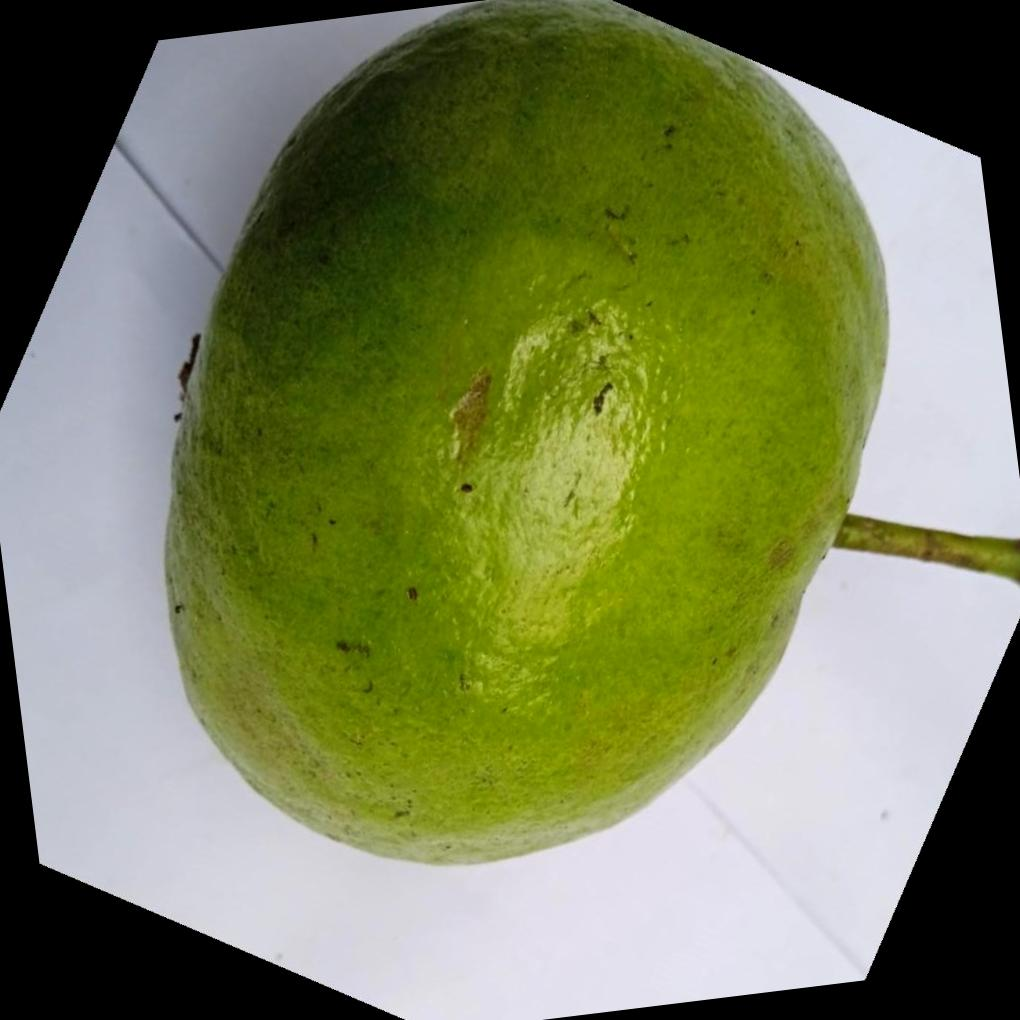FreshGuava: (165, 0, 895, 867)
